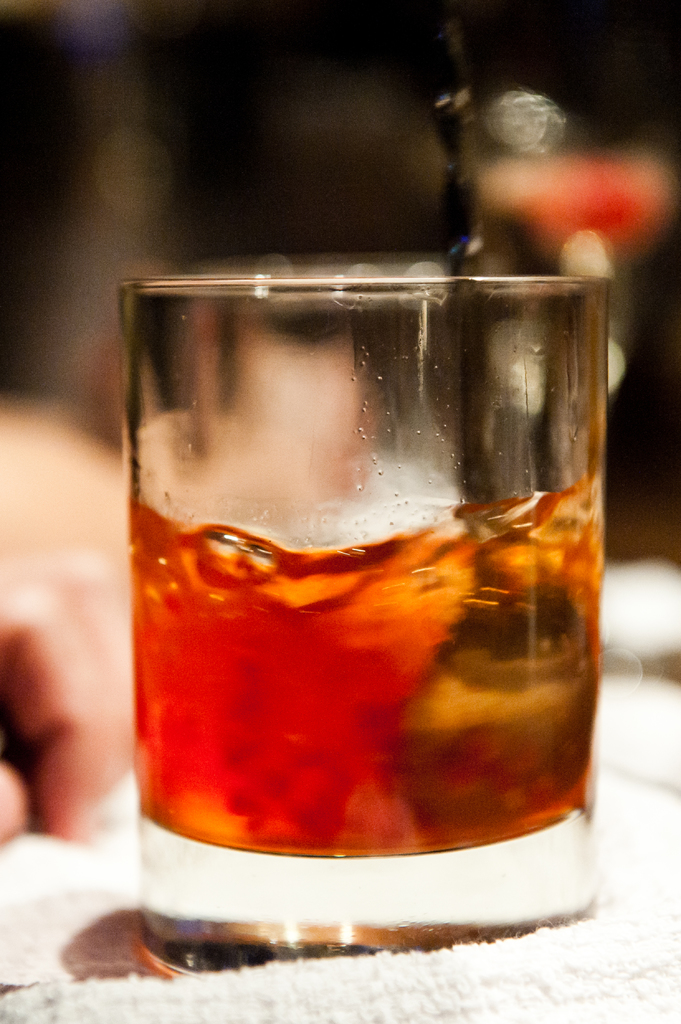Human_hand: (0, 553, 132, 847)
